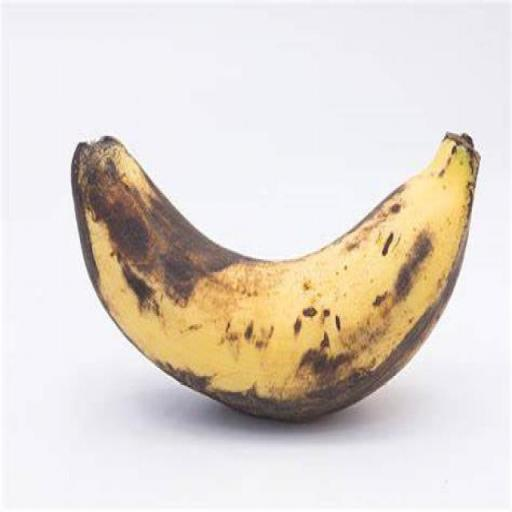fruit: (71, 134, 477, 419)
